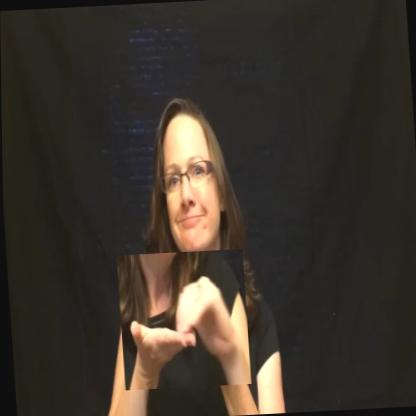ExcuseMe: (115, 248, 250, 390)
